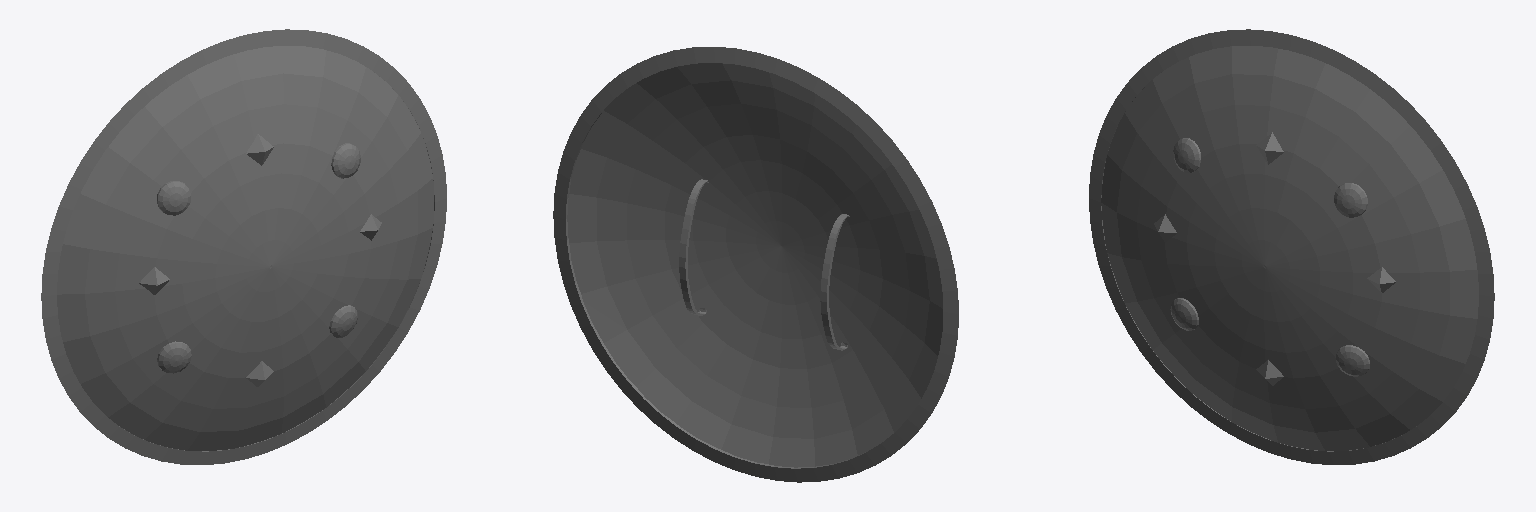
The model's file is MC_Shield2.obj.
The picture shows the model from 3 angles: view 1: azimuth 30°, elevation 25°; view 2: azimuth 150°, elevation 25°; view 3: azimuth 330°, elevation 25°; orthographic projection.
Visible parts, largest first — view 1: Mesh; view 2: Mesh; view 3: Mesh.
Part boxes in pixels (left/top/right/bottom): Mesh: left=41, top=29, right=446, bottom=464; Mesh: left=553, top=47, right=958, bottom=482; Mesh: left=1089, top=29, right=1494, bottom=464.
Bounding box in the file's own units: 0.3439 × 0.3439 × 0.044.